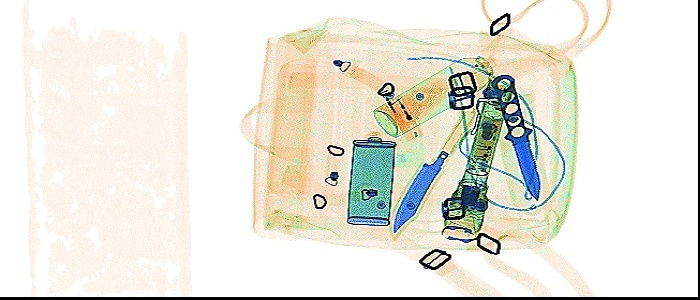knife: (387, 102, 480, 233), (490, 71, 544, 200)
lighter: (380, 88, 421, 144)
pressure: (371, 54, 493, 135)
zippooil: (345, 135, 396, 225)
